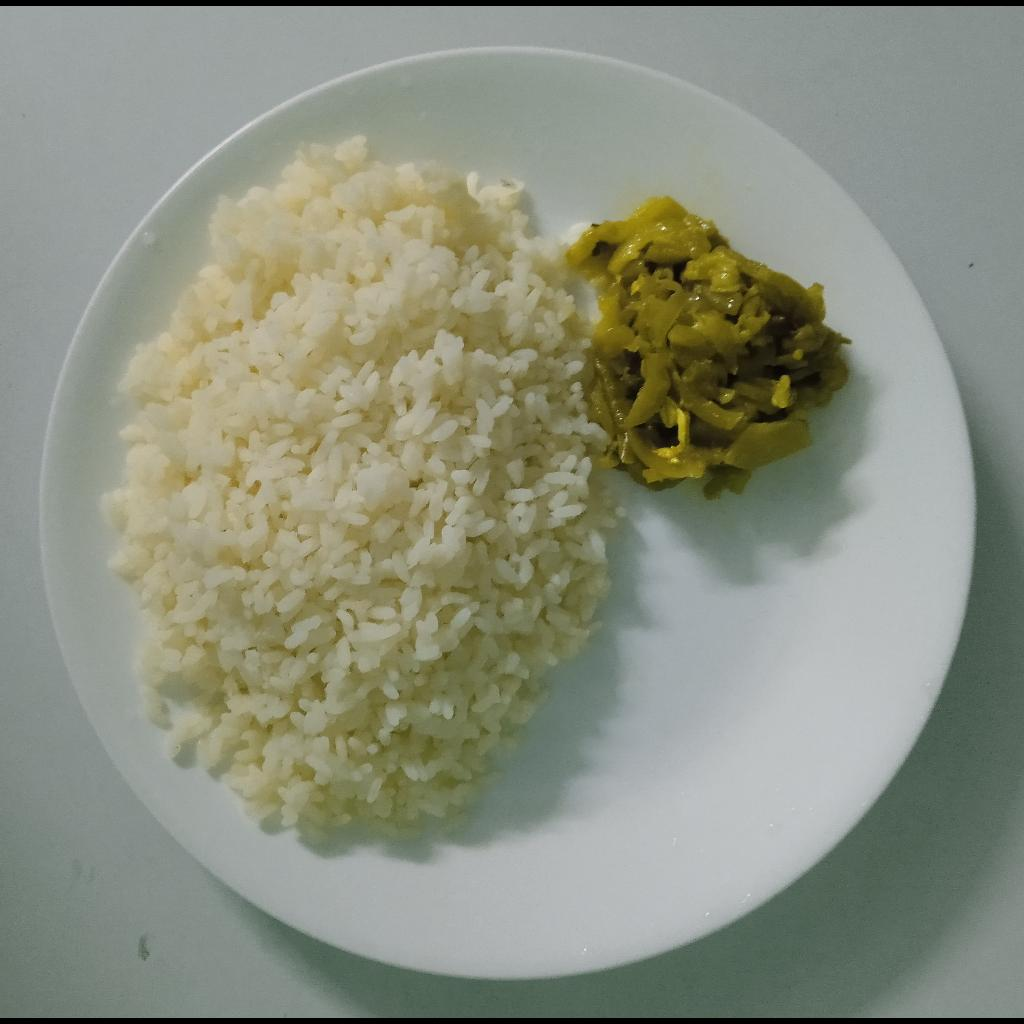rice: (98, 127, 619, 840)
vegetable: (573, 199, 854, 499)
